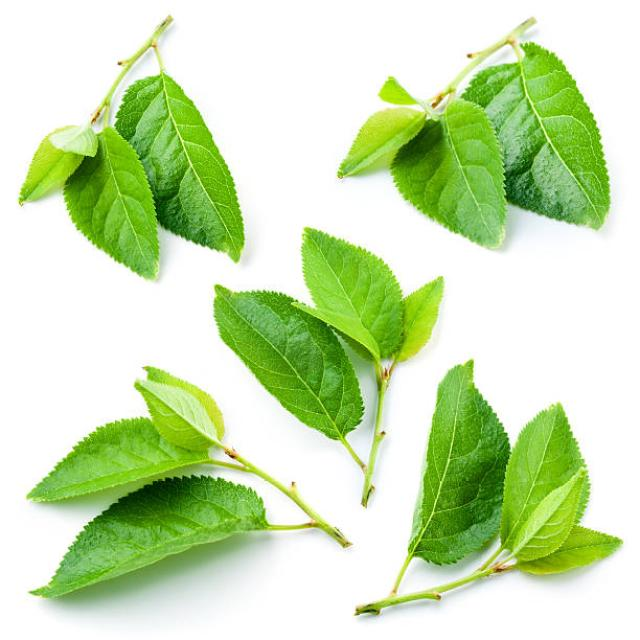yaprak: (368, 63, 610, 232), (69, 51, 241, 276), (442, 378, 594, 628), (84, 413, 266, 599), (267, 276, 423, 444)
